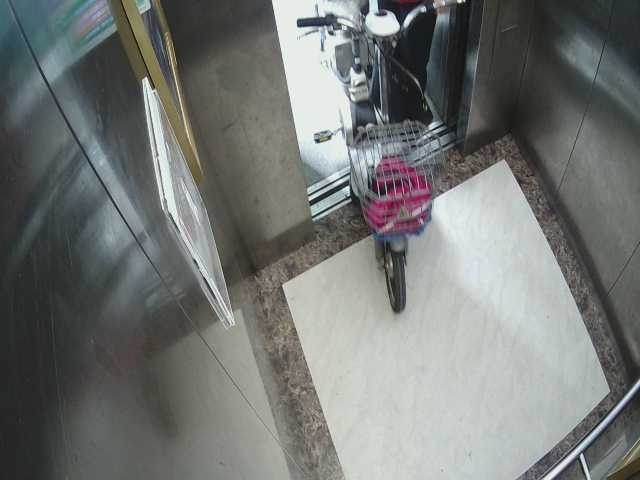emotor: (281, 1, 472, 320)
